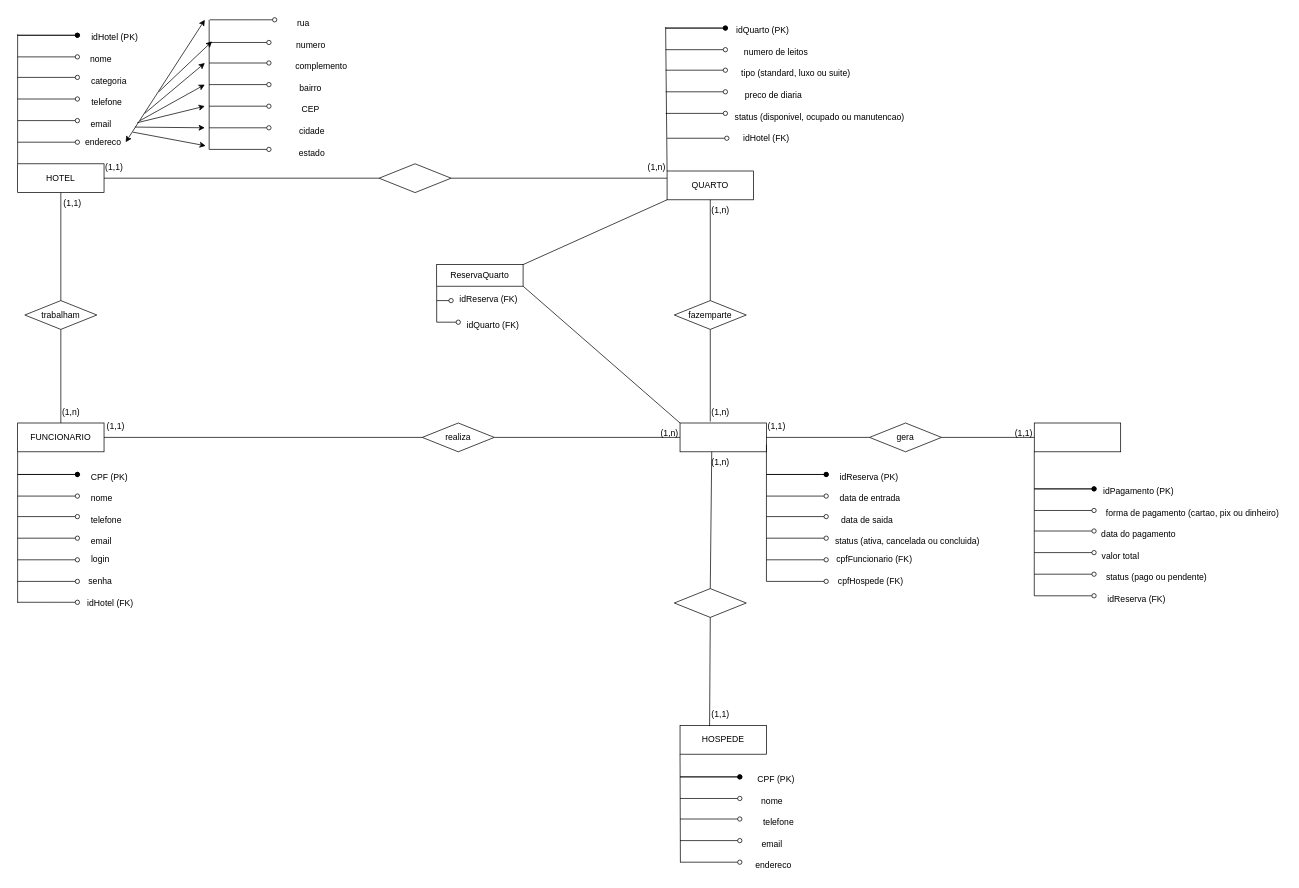
Image size: 1299x888. Some labels were removed from this diagram. Here are the shapes that lost their labels. From the top down, the centre of each, then its label:
At [414,178]: "possui".
At [722,437]: "RESERVA".
At [1077,437]: "PAGAMENTO".
At [710,602]: "podefazer".
